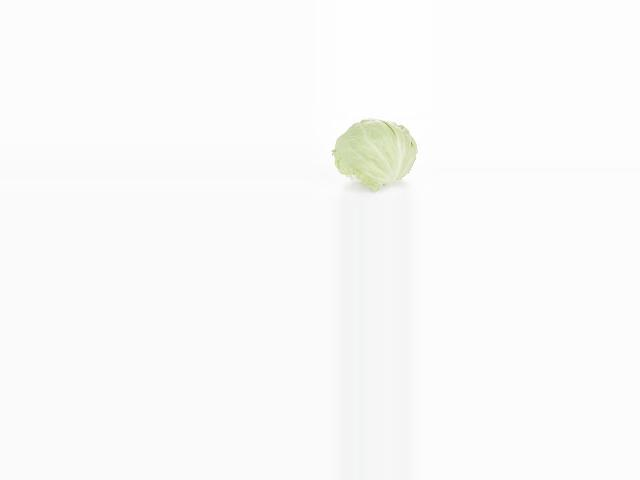lettuce: (329, 117, 422, 181)
